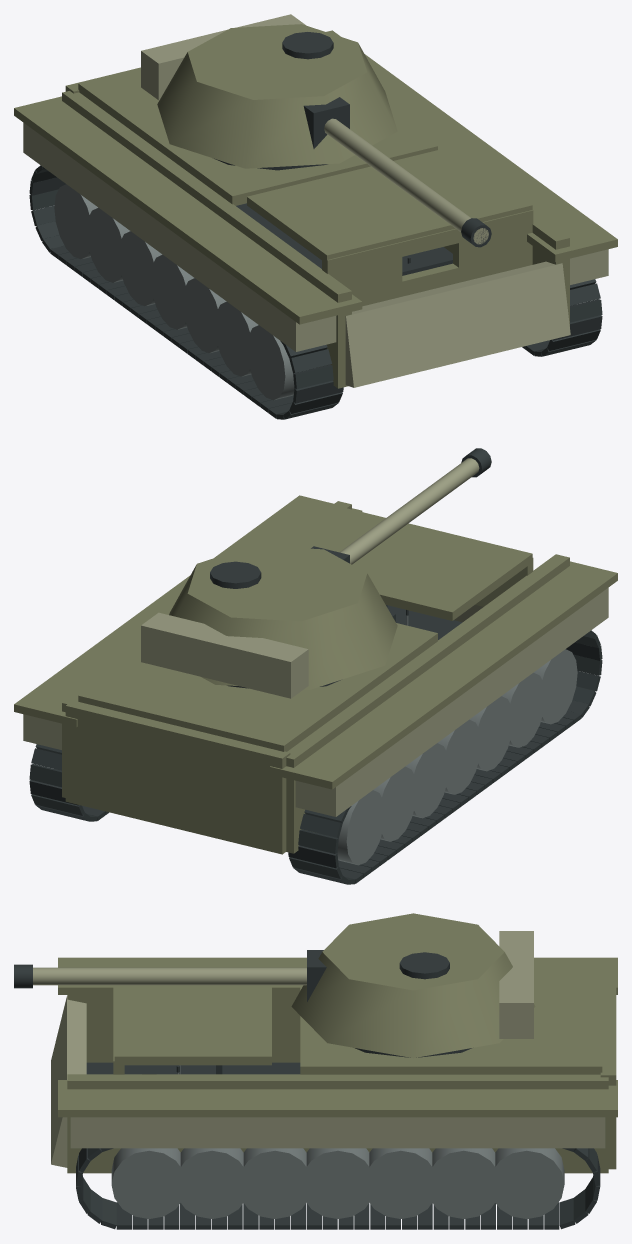
The model's file is tank.glb.
3 renders of one model, top to bottom at view 1: azimuth 30°, elevation 25°; view 2: azimuth 150°, elevation 25°; view 3: azimuth 270°, elevation 25°, orthographic.
Visible parts, largest first — view 1: turret.armor, track.fender (×2), hull.nose, cabin.roof, track.skirt (×2), engine.deck, hull.side (×2), cabin.visor.side (×2), gun.barrel, cabin.front.lower, cabin.front.upper, tank.roller.right.6 (+14 smaller); view 2: hull.rear, track.fender (×2), turret.armor, engine.deck, cabin.roof, track.skirt (×2), turret.rear, hull.side (×2), gun.barrel, tank.roller.right.0, tank.roller.right.3, tank.roller.right.6 (+9 smaller); view 3: turret.armor, track.fender (×2), track.skirt, hull.side (×2), cabin.roof, engine.deck, gun.barrel, tank.roller.left.0, tank.roller.left.6, tank.roller.left.2, tank.roller.left.3, tank.roller.left.4 (+9 smaller).
Boxes of the visible parts, x1,y1,x2,y2 form: turret.armor: (157, 24, 397, 168); track.fender (×2): (14, 30, 617, 324); hull.nose: (345, 261, 570, 387); cabin.roof: (247, 146, 532, 262); track.skirt (×2): (23, 122, 608, 351); engine.deck: (78, 68, 437, 205); hull.side (×2): (62, 91, 569, 388); cabin.visor.side (×2): (330, 225, 532, 293); gun.barrel: (324, 118, 488, 244); cabin.front.lower: (352, 250, 532, 306); cabin.front.upper: (322, 210, 533, 274); tank.roller.right.6: (247, 325, 294, 400); hull.rear: (65, 700, 290, 854); track.fender (×2): (14, 495, 617, 789); turret.armor: (169, 545, 397, 689); engine.deck: (78, 623, 437, 751); cabin.roof: (269, 503, 532, 620); track.skirt (×2): (23, 587, 608, 816); turret.rear: (141, 612, 308, 698); hull.side (×2): (62, 501, 569, 853); gun.barrel: (339, 458, 479, 564); tank.roller.right.0: (337, 790, 384, 865); tank.roller.right.3: (438, 719, 481, 794); tank.roller.right.6: (534, 649, 577, 724); turret.armor: (291, 913, 535, 1058); track.fender (×2): (58, 957, 617, 1117); track.skirt: (70, 1117, 605, 1148); hull.side (×2): (67, 970, 608, 1173); cabin.roof: (114, 958, 271, 1065); engine.deck: (300, 968, 602, 1074); gun.barrel: (33, 967, 306, 985); tank.roller.left.0: (489, 1148, 564, 1218); tank.roller.left.6: (111, 1148, 186, 1218); tank.roller.left.2: (363, 1148, 438, 1218); tank.roller.left.3: (300, 1148, 374, 1218); tank.roller.left.4: (237, 1148, 312, 1218).
Size of the model in its own units: 5.73 by 3.7 by 9.6.
